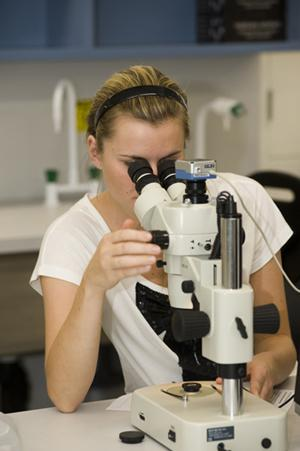person: (31, 67, 297, 414)
